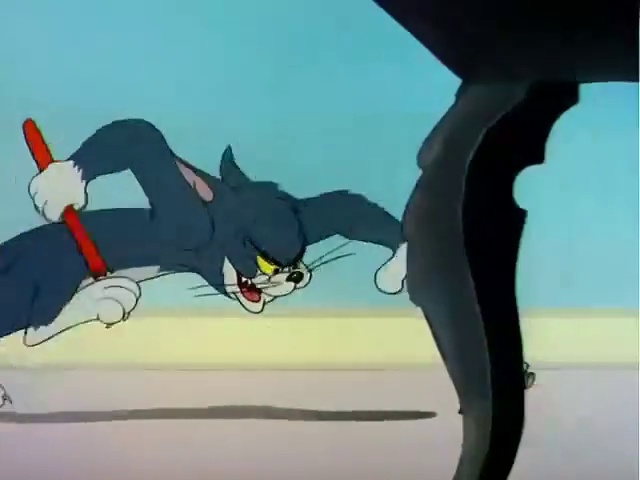tom: (1, 96, 440, 372)
